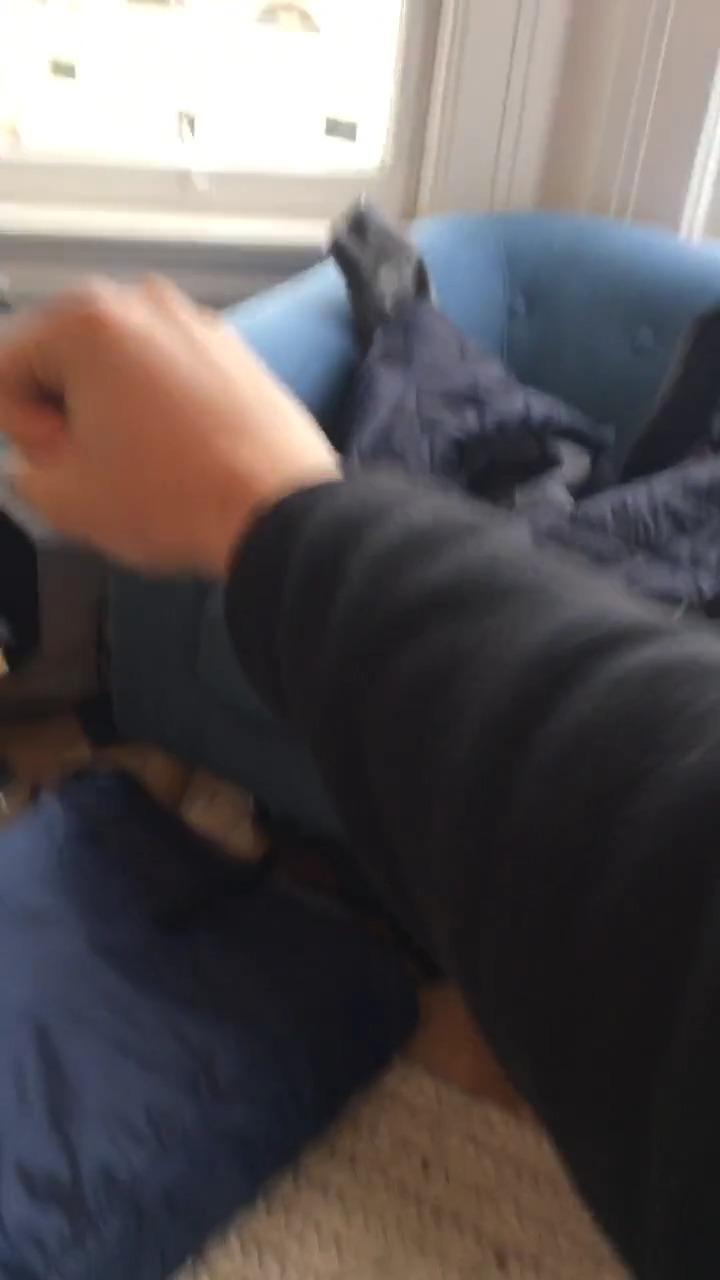Rock: (0, 268, 300, 576)
